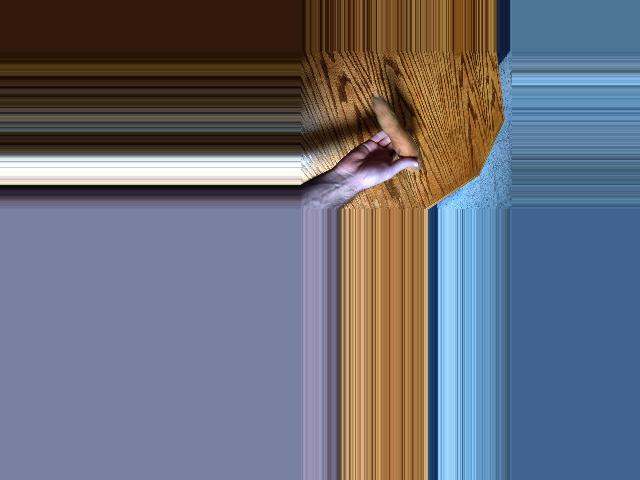sweet_potato: (371, 97, 422, 174)
